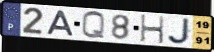2: (22, 7, 46, 37)
8: (110, 14, 132, 41)
A: (45, 9, 76, 37)
H: (140, 14, 165, 45)
J: (166, 17, 192, 46)
Q: (81, 10, 107, 40)
